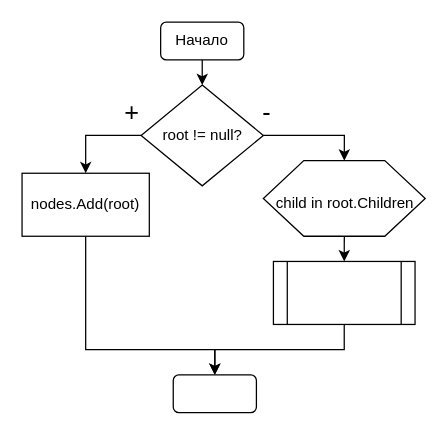
This 447x435 diagram has some shape labels left out. The centre of each missing label's shape, as x and y in pixels:
"GetTreeNodes (child, id)" goes at (343,292).
"Конец" goes at (214,393).
